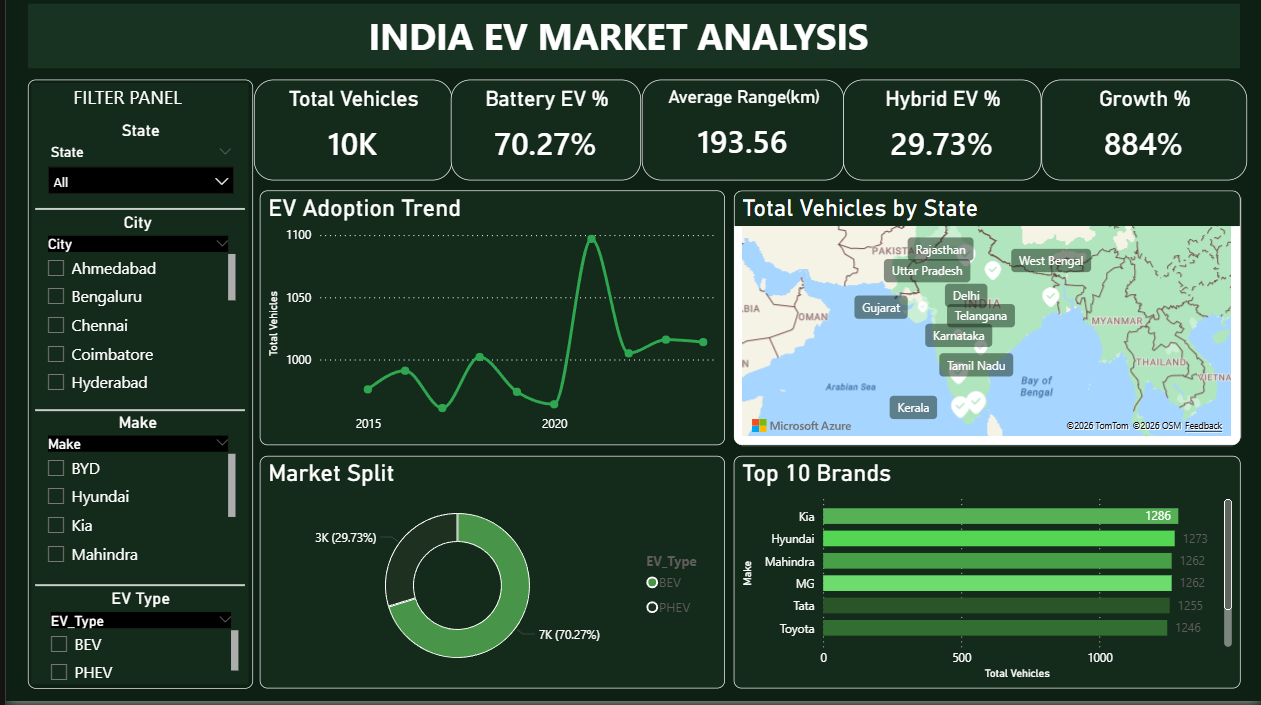

The page's visual inventory and layout, read from the dashboard file:
{"tool":"powerbi","page":{"name":"INDIA EV MARKET ANALYSIS","canvas":[1280,720],"ordinal":0},"visuals":[{"type":"shape","box":[23,9.2,1236.6,65.8],"z":0},{"type":"textbox","box":[283.1,10.7,684.1,64.3],"z":1000},{"type":"shape","box":[23,85.7,229.6,621.4],"z":2000},{"type":"textbox","box":[64.3,85.7,137.7,55.1],"z":3000},{"type":"slicer","title":"State","fields":{"Values":["India_EV_Registrations_10K.State"]},"box":[32.1,128.6,209.7,88.8],"z":4000},{"type":"shape","box":[29.1,208.1,214.3,19.9],"z":5000},{"type":"slicer","title":"City","fields":{"Values":["India_EV_Registrations_10K.City"]},"box":[29.1,221.9,209.7,195.9],"z":6000},{"type":"shape","box":[29.1,413.2,214.3,19.9],"z":7000},{"type":"slicer","title":"Make","fields":{"Values":["India_EV_Registrations_10K.Make"]},"box":[29.1,425.5,209.7,169.9],"z":8000},{"type":"shape","box":[29.1,592.3,214.3,19.9],"z":9000},{"type":"slicer","title":"EV Type","fields":{"Values":["India_EV_Registrations_10K.EV_Type"]},"box":[32.1,606.1,209.7,101],"z":10000},{"type":"cardVisual","title":"Total Vehicles","fields":{"Data":["India_EV_Registrations_10K.Total EVs"]},"box":[252.5,85.7,202,102.5],"z":11000},{"type":"cardVisual","title":"Average Range(km)","fields":{"Data":["India_EV_Registrations_10K.Avg Electric Range"]},"box":[647.9,85.7,206.6,102.5],"z":12000},{"type":"cardVisual","title":"Growth %","fields":{"Data":["India_EV_Registrations_10K.Growth %"]},"box":[1056,85.7,209.7,102.5],"z":13000},{"type":"lineChart","title":"EV Adoption Trend","fields":{"Y":["India_EV_Registrations_10K.Total Vehicles"],"Category":["India_EV_Registrations_10K.Registration_Year"]},"box":[258.7,199,474.4,260.2],"z":14000},{"type":"clusteredBarChart","title":"Top 10 Brands","fields":{"Category":["India_EV_Registrations_10K.Make"],"Y":["India_EV_Registrations_10K.Total Vehicles"]},"box":[742.3,469.9,517.3,237.2],"z":15000},{"type":"donutChart","title":"Market Split","fields":{"Category":["India_EV_Registrations_10K.EV_Type"],"Y":["India_EV_Registrations_10K.Total Vehicles"]},"box":[258.7,469.9,474.4,237.2],"z":16000},{"type":"azureMap","fields":{"Category":["India_EV_Registrations_10K.State"],"Size":["India_EV_Registrations_10K.Total Vehicles"]},"box":[742.3,199,517.3,260.2],"z":17000},{"type":"cardVisual","title":"Battery EV %","fields":{"Data":["India_EV_Registrations_10K.BEV %"]},"box":[454,85.7,194.4,102.5],"z":18000},{"type":"cardVisual","title":"Hybrid EV %","fields":{"Data":["India_EV_Registrations_10K.PHEV %"]},"box":[854,85.7,202,102.5],"z":19000}]}

Visuals, with their boxes in screenshot pixels (x1, y1, x2, y2), scaled from the page's 1280x720 canvas onto the 1261x705 screenshot:
shape: {"left": 23, "top": 9, "right": 1241, "bottom": 73}
textbox: {"left": 279, "top": 10, "right": 953, "bottom": 73}
shape: {"left": 23, "top": 84, "right": 249, "bottom": 692}
textbox: {"left": 63, "top": 84, "right": 199, "bottom": 138}
"State" slicer: {"left": 32, "top": 126, "right": 238, "bottom": 213}
shape: {"left": 29, "top": 204, "right": 240, "bottom": 223}
"City" slicer: {"left": 29, "top": 217, "right": 235, "bottom": 409}
shape: {"left": 29, "top": 405, "right": 240, "bottom": 424}
"Make" slicer: {"left": 29, "top": 417, "right": 235, "bottom": 583}
shape: {"left": 29, "top": 580, "right": 240, "bottom": 599}
"EV Type" slicer: {"left": 32, "top": 593, "right": 238, "bottom": 692}
"Total Vehicles" cardVisual: {"left": 249, "top": 84, "right": 448, "bottom": 184}
"Average Range(km)" cardVisual: {"left": 638, "top": 84, "right": 842, "bottom": 184}
"Growth %" cardVisual: {"left": 1040, "top": 84, "right": 1247, "bottom": 184}
"EV Adoption Trend" lineChart: {"left": 255, "top": 195, "right": 722, "bottom": 450}
"Top 10 Brands" clusteredBarChart: {"left": 731, "top": 460, "right": 1241, "bottom": 692}
"Market Split" donutChart: {"left": 255, "top": 460, "right": 722, "bottom": 692}
azureMap - India_EV_Registrations_10K.State x India_EV_Registrations_10K.Total Vehicles: {"left": 731, "top": 195, "right": 1241, "bottom": 450}
"Battery EV %" cardVisual: {"left": 447, "top": 84, "right": 639, "bottom": 184}
"Hybrid EV %" cardVisual: {"left": 841, "top": 84, "right": 1040, "bottom": 184}
